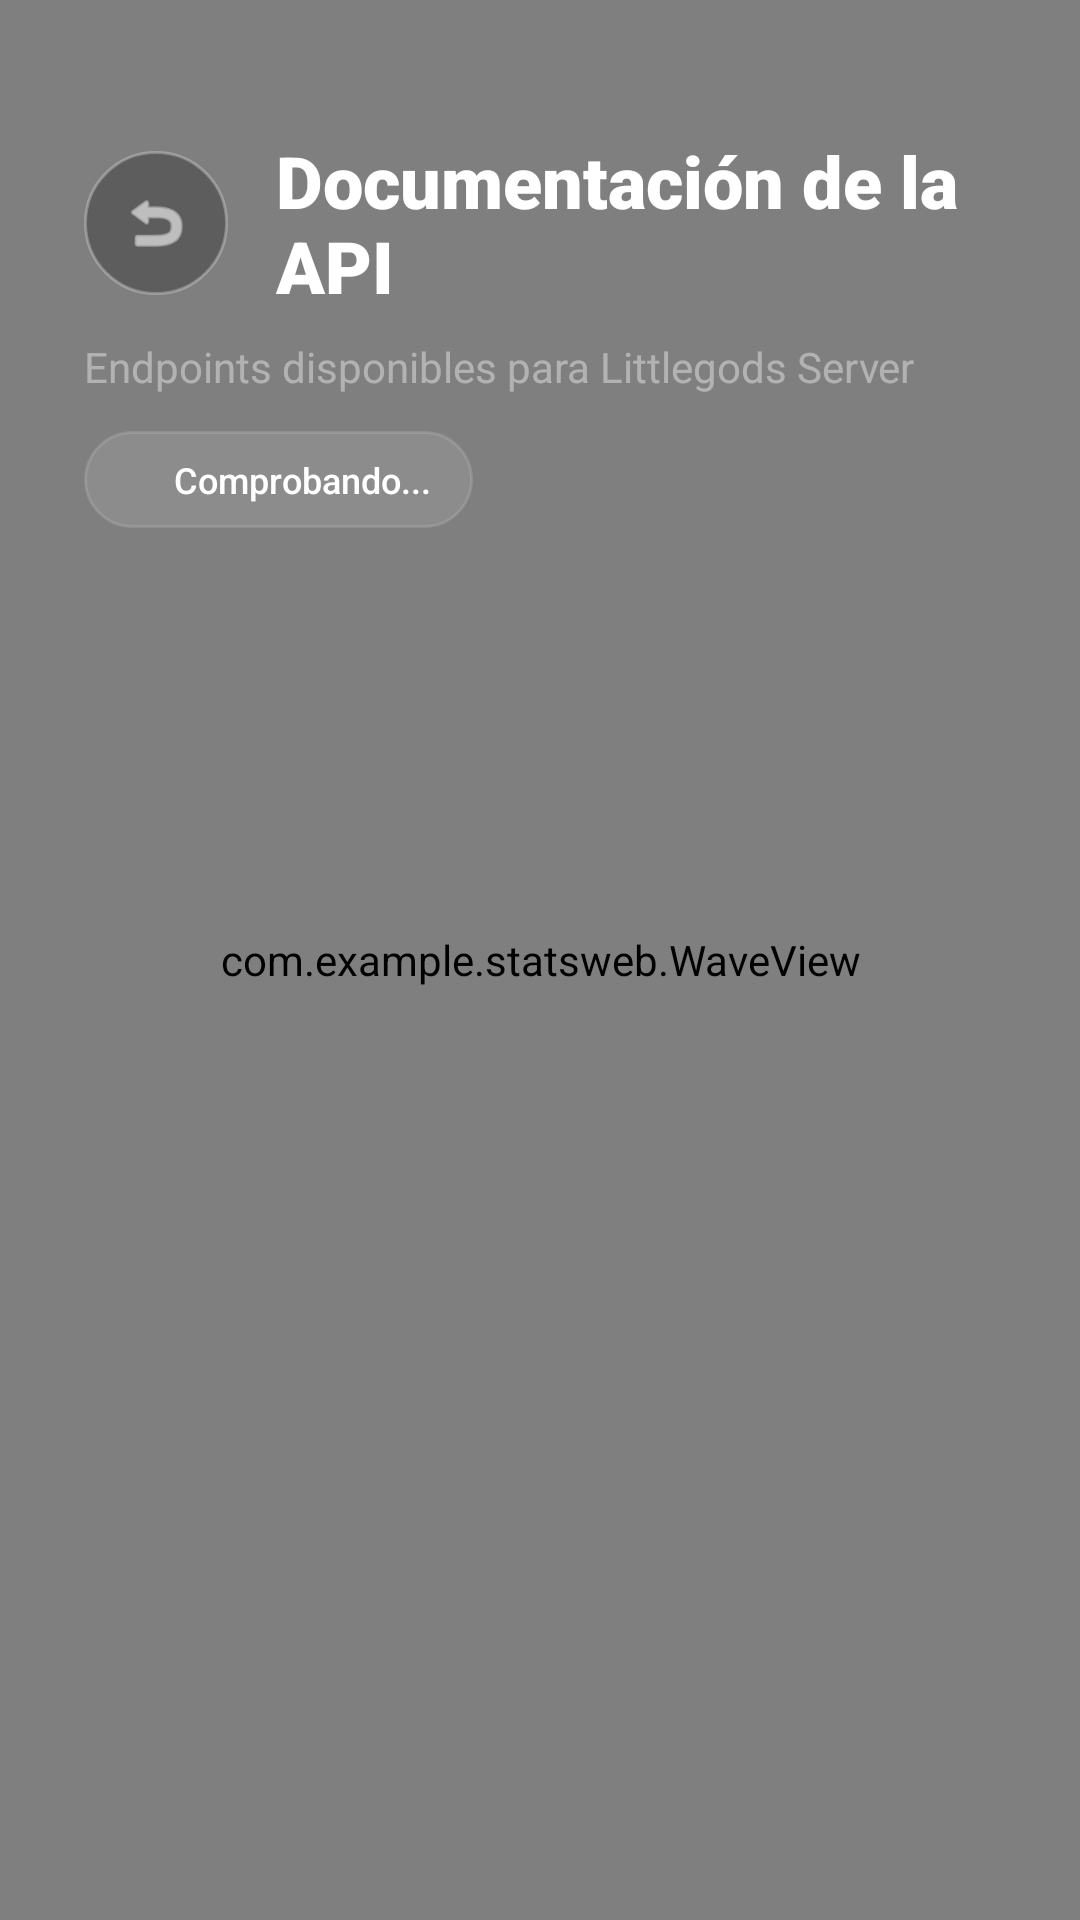

Named icons in this screenshot (1080w x 1920h) and their centers, [x,y]:
revert: [156,223]
